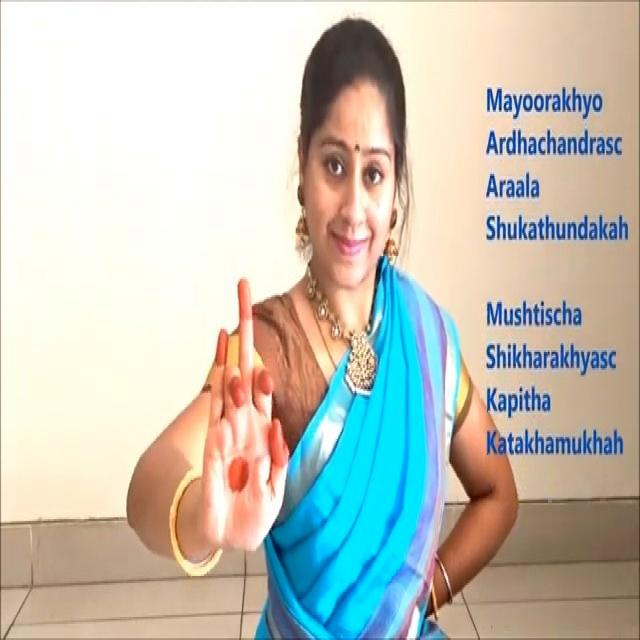Shukatunda: (202, 271, 296, 570)
lady: (283, 21, 424, 294)
text: (479, 80, 636, 255), (480, 291, 630, 469)
